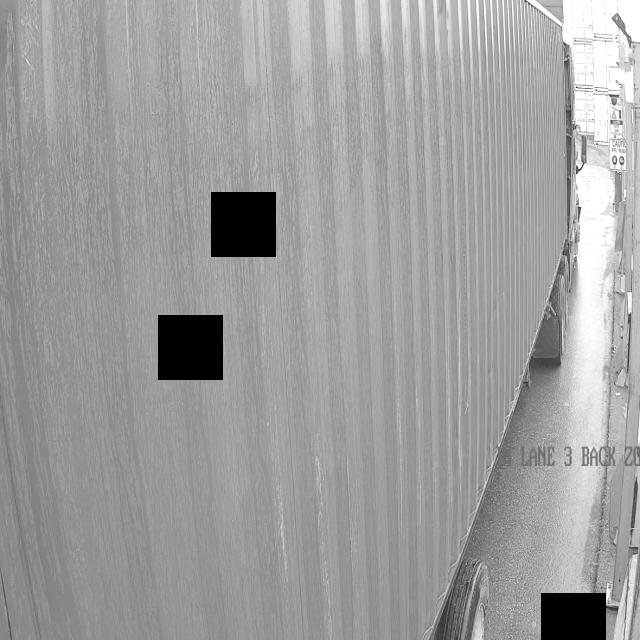truck_with_container: (0, 0, 584, 640)
